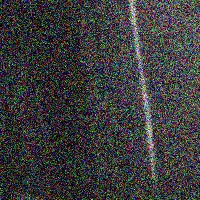inclusion: (7, 0, 125, 200)
scratches: (125, 0, 163, 191)
